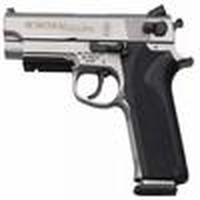gun: (4, 7, 198, 190)
